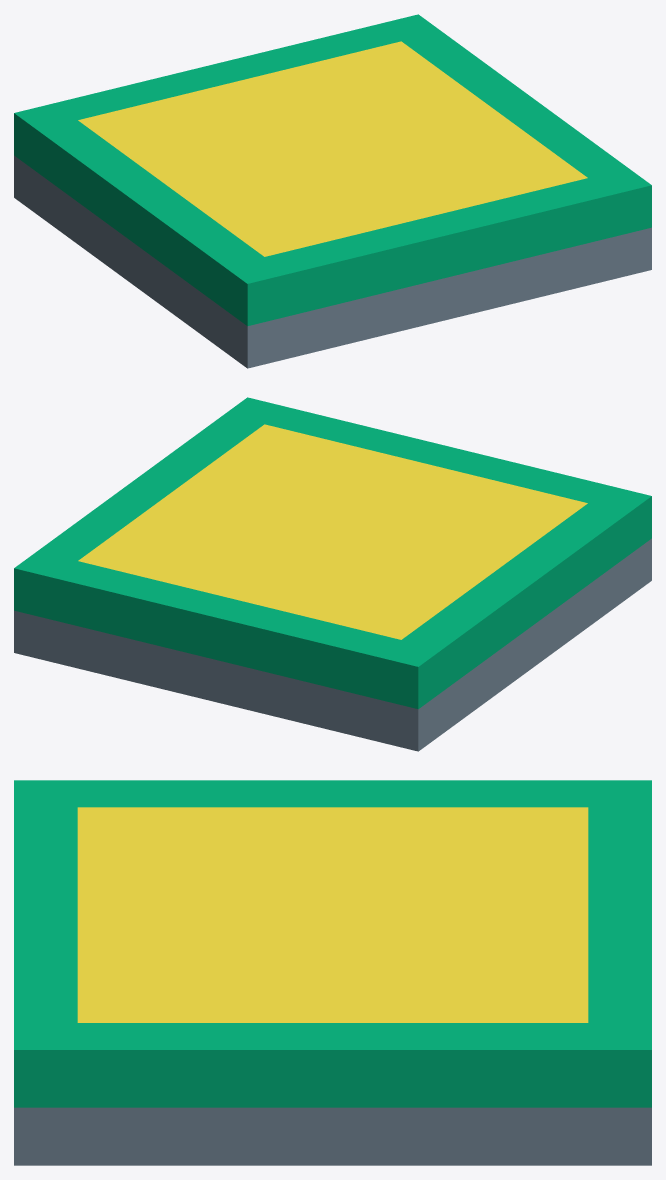
File: platform5.fbx
3 views of the same model, one above another, from view 1: azimuth 30°, elevation 25°; view 2: azimuth 150°, elevation 25°; view 3: azimuth 270°, elevation 25° (orthographic). The views are drawn at different scales.
Visible parts, largest first — view 1: 对象; view 2: 对象; view 3: 对象.
Part boxes in pixels (bbox=[...]): 对象: bbox=[14, 14, 651, 368]; 对象: bbox=[14, 397, 651, 751]; 对象: bbox=[14, 780, 651, 1165].
Bounding box in the file's own units: 10 × 2 × 10.
Materials: 1 (1 with a texture image).
